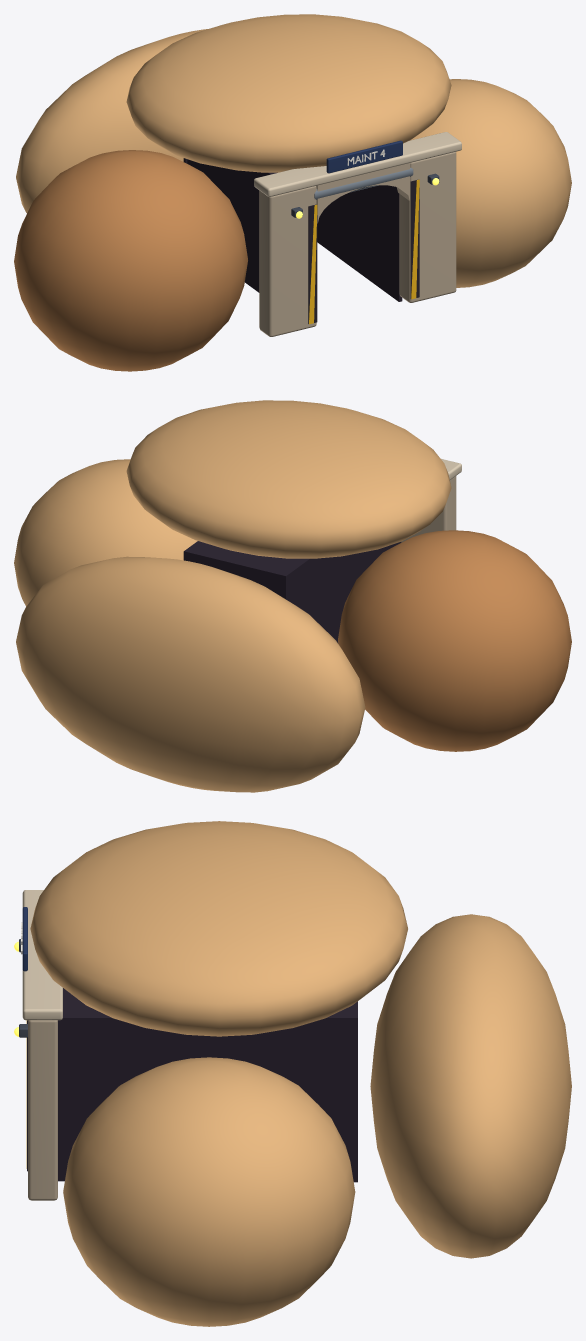
File: dune_tunnel.glb
The picture shows the model from 3 angles, top to bottom: view 1: azimuth 30°, elevation 25°; view 2: azimuth 150°, elevation 25°; view 3: azimuth 270°, elevation 25°; orthographic projection. The views are drawn at different scales.
Visible parts, largest first — view 1: Tunnel; view 2: Tunnel; view 3: Tunnel.
Boxes of the visible parts, x1,y1,x2,y2 form: Tunnel: [14, 14, 571, 371]; Tunnel: [14, 400, 571, 792]; Tunnel: [14, 821, 571, 1326].
Bounding box in the file's own units: 31 × 15.5 × 22.15.
